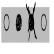correct: (15, 11, 22, 32)
no answer: (40, 11, 47, 34)
not correct: (25, 1, 38, 44)
